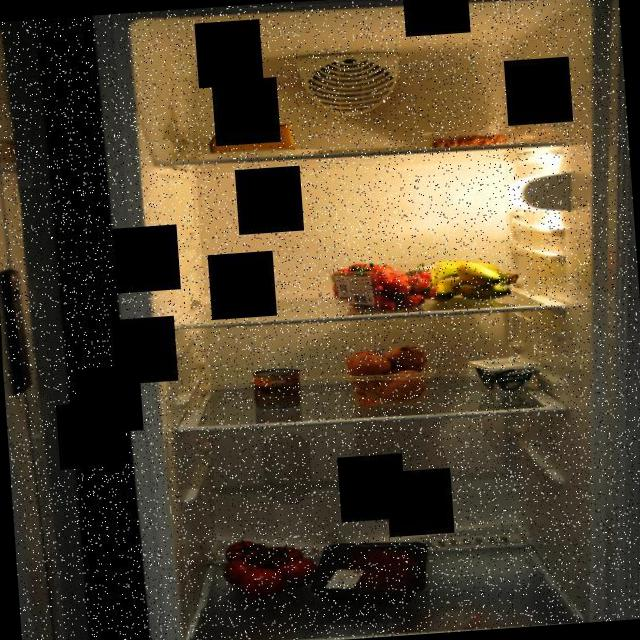Carne vacuno: (328, 543, 410, 593)
Cebolla: (340, 340, 434, 410)
Gambas/Langostinos: (426, 128, 520, 151)
Plátano: (419, 252, 524, 308)
Queso: (205, 119, 302, 158)
Tomate: (216, 530, 322, 602)
